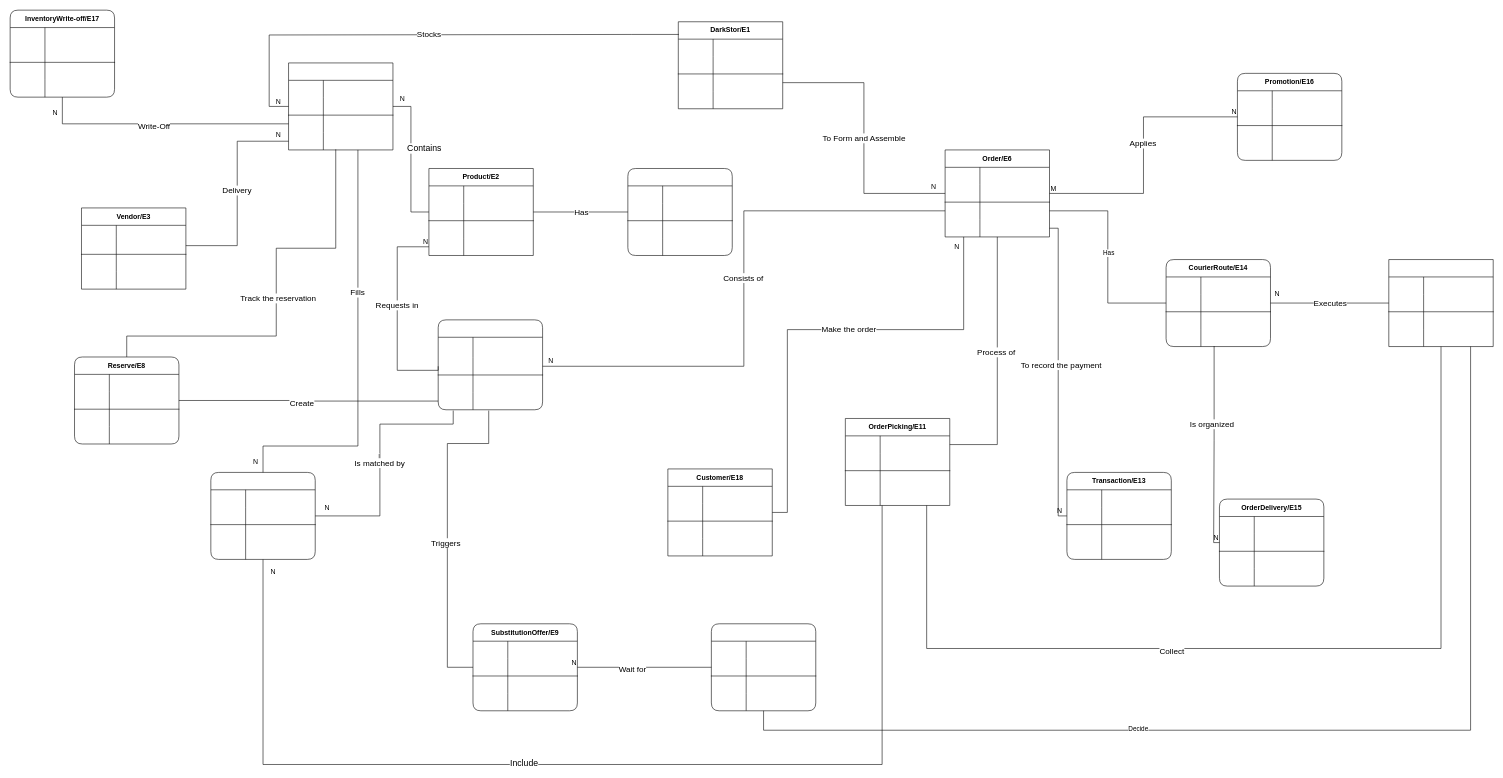
The diagram is 1503 pixels wide and 778 high, and some of its shapes have lost their labels. Each missing label, with the centre of its shape:
ActualFulfillment/E12: (262,515)
Batch/E4: (340,106)
Employee/E19: (1440,303)
OrderPosition/E7: (490,364)
Price/E5: (679,211)
SubstitutionDecision/E10: (763,667)
